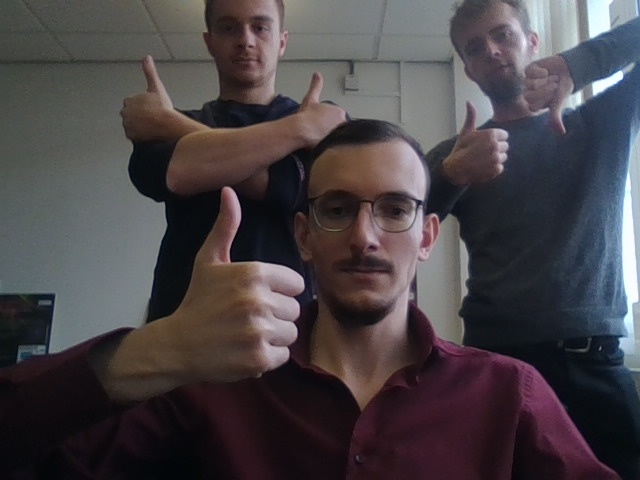thumbup: (183, 186, 305, 384), (443, 102, 507, 188), (118, 53, 175, 141), (290, 72, 345, 147), (522, 55, 572, 135)
